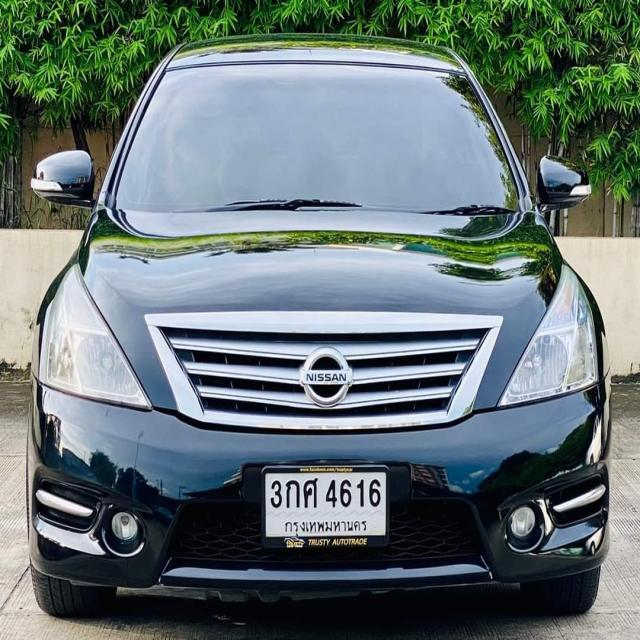license_plate: (259, 462, 392, 548)
